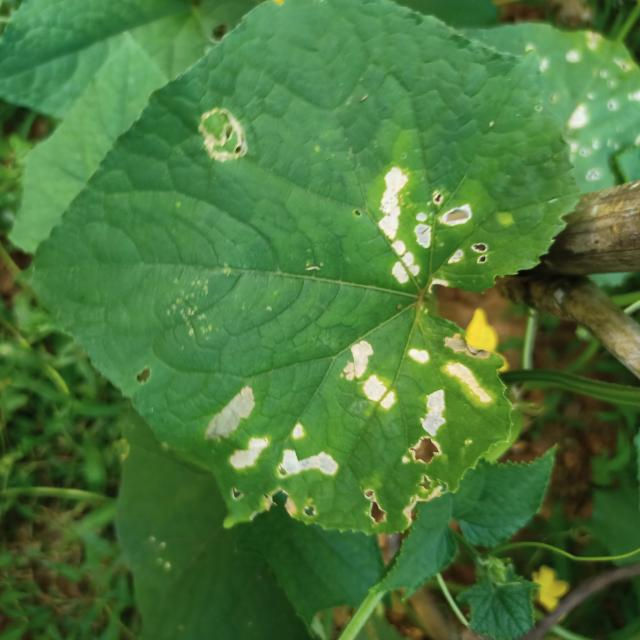disease_cucumber: (404, 319, 498, 506), (366, 163, 494, 297), (202, 378, 272, 480), (337, 336, 398, 416), (277, 420, 342, 487)
